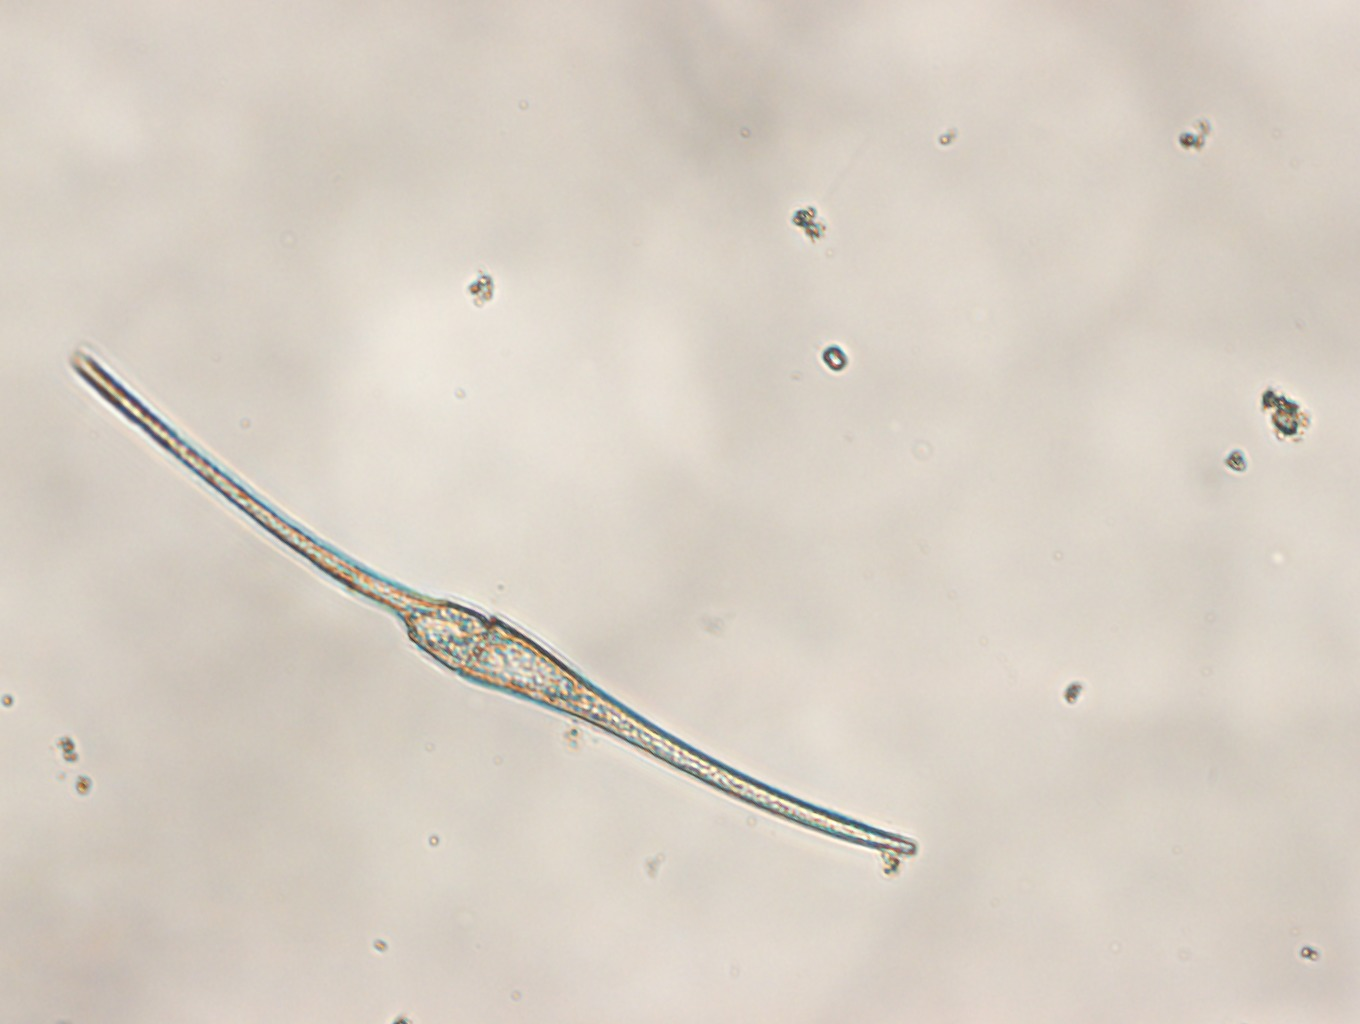ceratium fusus: (73, 345, 917, 858)
